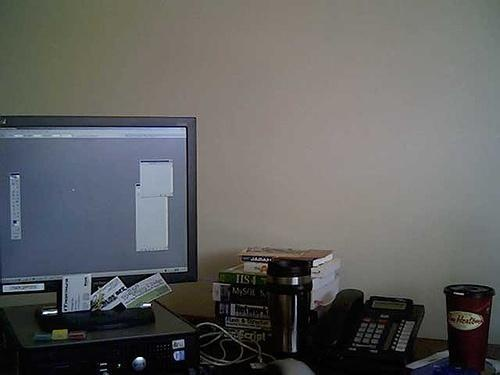tvmonitor: (1, 115, 201, 326)
